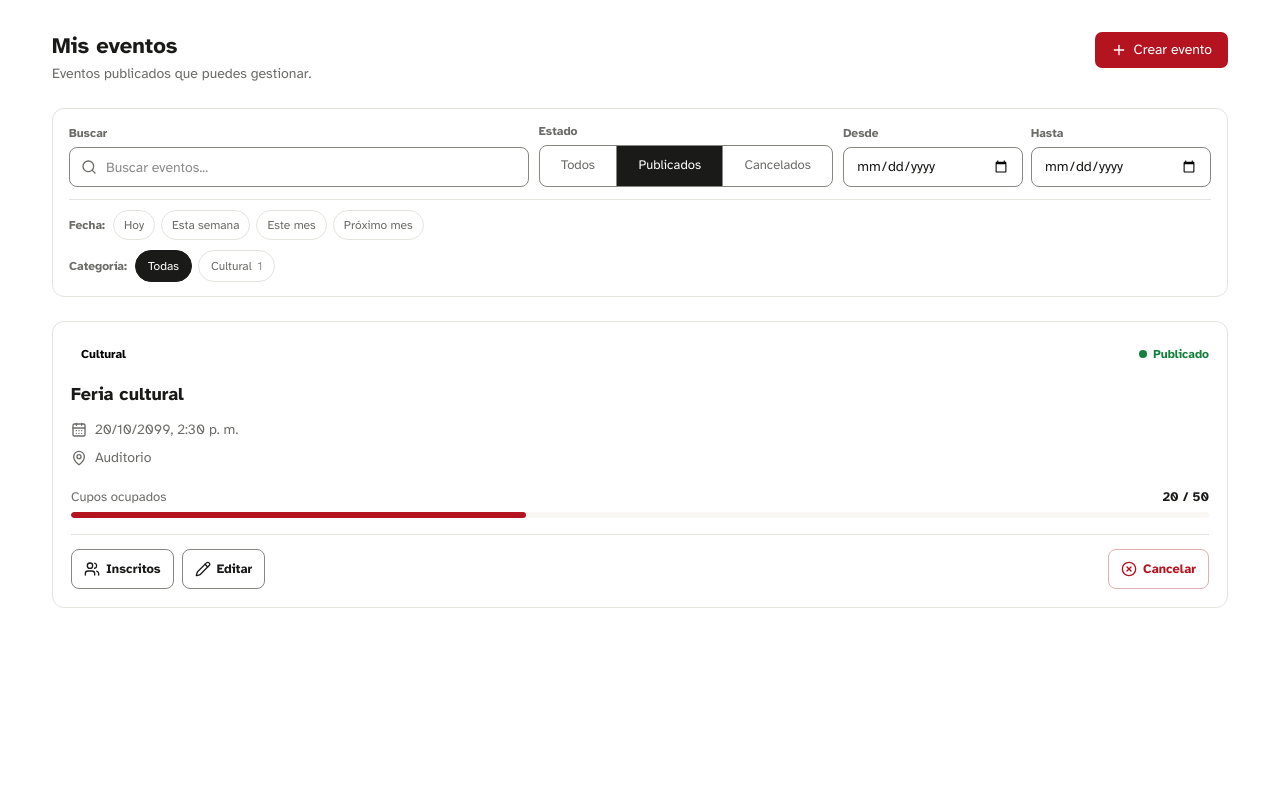
Test: GestionEventos (HU-07) › conserva el diálogo y muestra el error si falla la cancelación
expect the heading "Feria cultural" is shown: met, box [71,383,184,405]
Click the button with aria-label "Cancelar evento Feria cultural". click: (1158, 569)
box: [1108,549,1209,589]
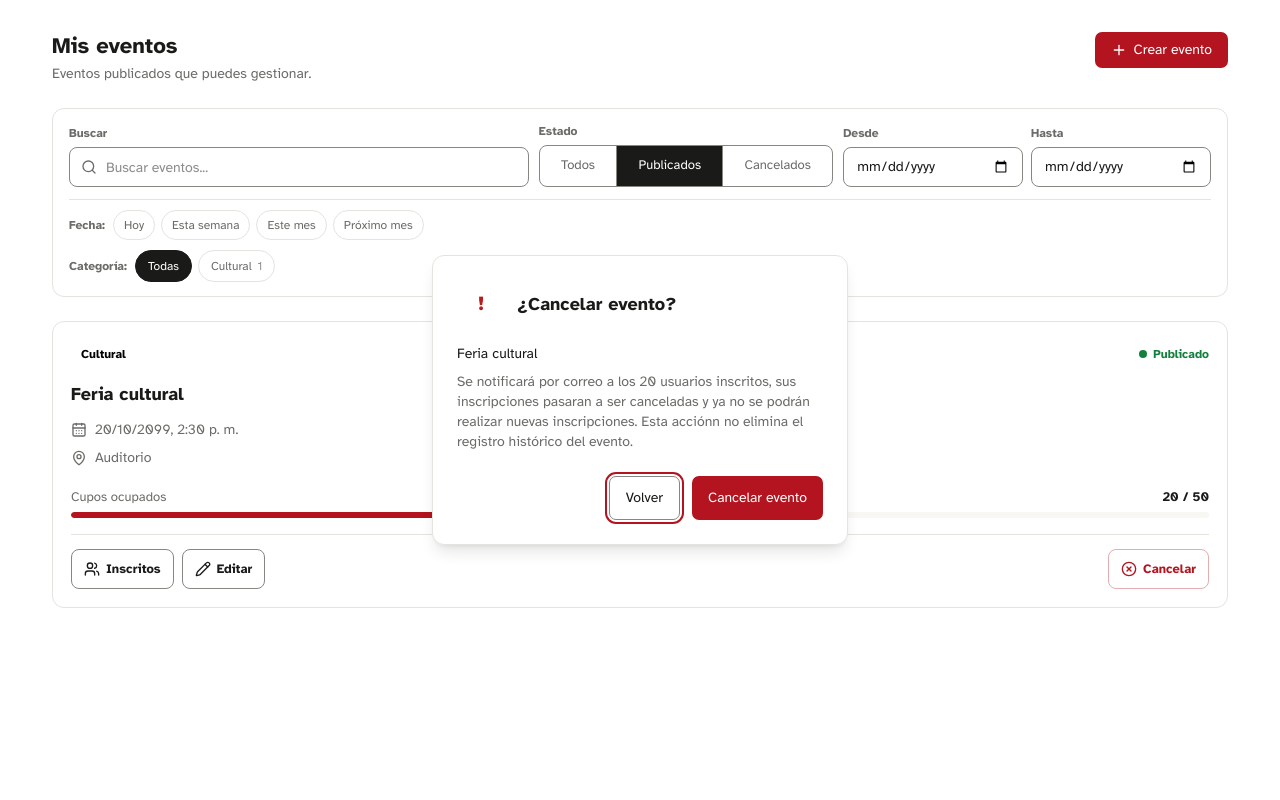
Click the button "Cancelar evento". click: (758, 498)
box: [692,476,823,520]
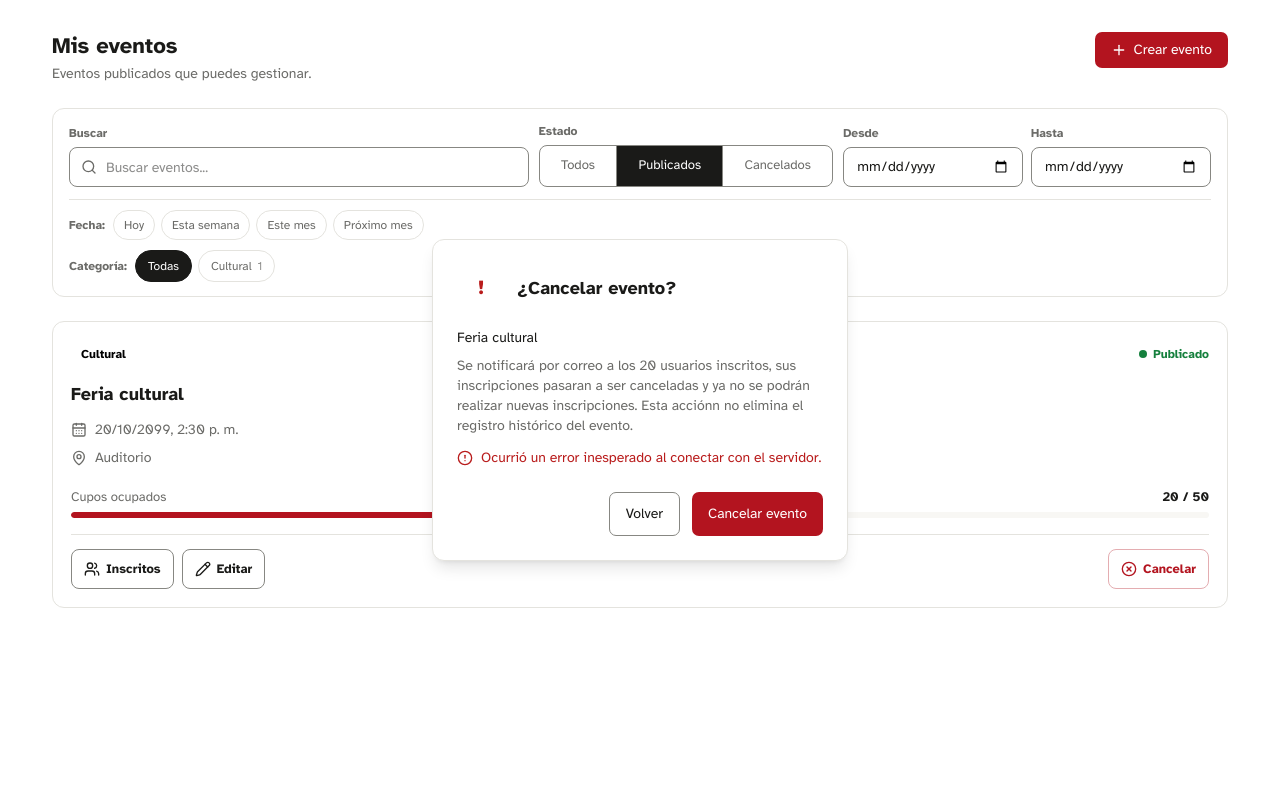
expect the 2nd heading "Feria cultural" is shown: met, box [71,383,184,405]
expect the dialog is shown: met, box [432,239,848,561]
expect the message reads "Ocurrió un error inesperado al conectar con el servidor.": met, box [481,449,821,466]
